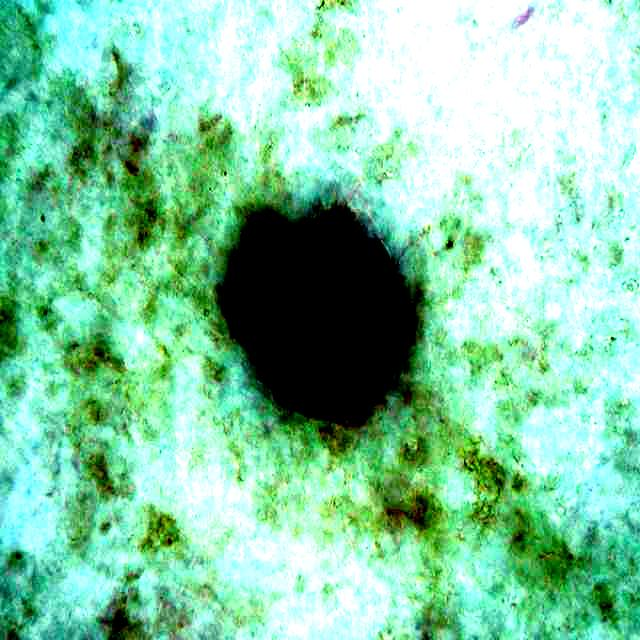MEL: (226, 210, 414, 416)
